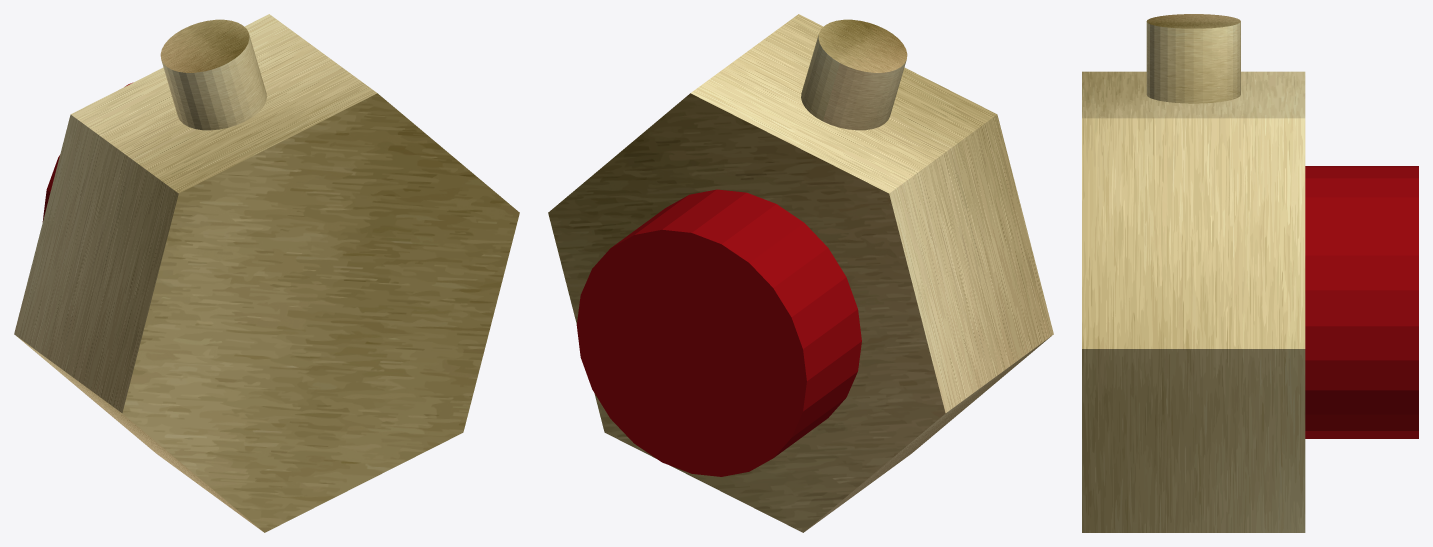
Rendered from volume_gas_remove.fbx.
The picture shows the model from 3 angles, left to right: view 1: azimuth 30°, elevation 25°; view 2: azimuth 150°, elevation 25°; view 3: azimuth 270°, elevation 25°; orthographic projection. The views are drawn at different scales.
Parts seen in each view (by area): view 1: Depressurizer_body, Depressurizer_valve; view 2: Depressurizer_body, BUTTON, Depressurizer_valve; view 3: Depressurizer_body, BUTTON, Depressurizer_valve.
Boxes of the visible parts, <box> form: Depressurizer_body: <box>14,14,519,532</box>; Depressurizer_valve: <box>160,19,266,130</box>; Depressurizer_body: <box>548,14,1053,532</box>; BUTTON: <box>576,189,861,476</box>; Depressurizer_valve: <box>801,19,907,130</box>; Depressurizer_body: <box>1082,71,1305,532</box>; BUTTON: <box>1305,166,1418,438</box>; Depressurizer_valve: <box>1146,14,1240,103</box>.
Bounding box in the file's own units: 65.98 × 72.92 × 46.93.
